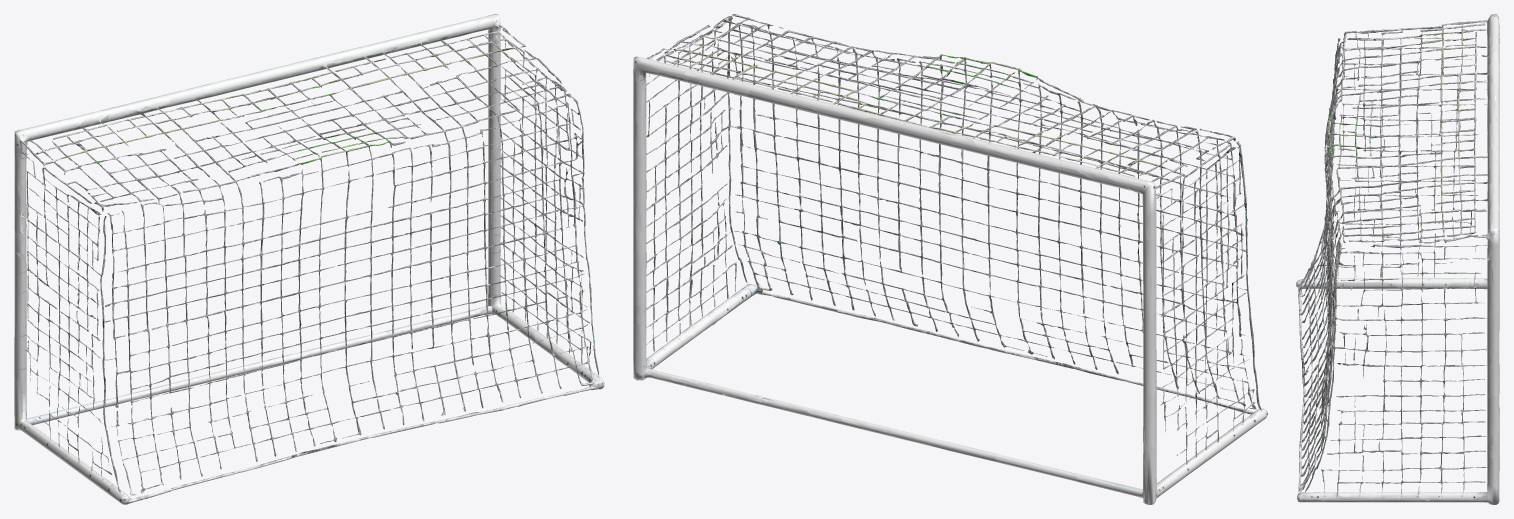
Rendered from goal.glb.
The picture shows the model from 3 angles, left to right: view 1: azimuth 30°, elevation 25°; view 2: azimuth 150°, elevation 25°; view 3: azimuth 270°, elevation 25°; orthographic projection. The views are drawn at different scales.
Parts seen in each view (by area): view 1: Mesh_0; view 2: Mesh_0; view 3: Mesh_0.
Boxes of the visible parts, box(x1,y1,x2,y2) form: Mesh_0: box(14, 14, 604, 504); Mesh_0: box(633, 14, 1267, 504); Mesh_0: box(1296, 14, 1499, 504).
Size of the model in its own units: 7.42 by 4.33 by 2.91.
Materials: 1 (1 with a texture image).
